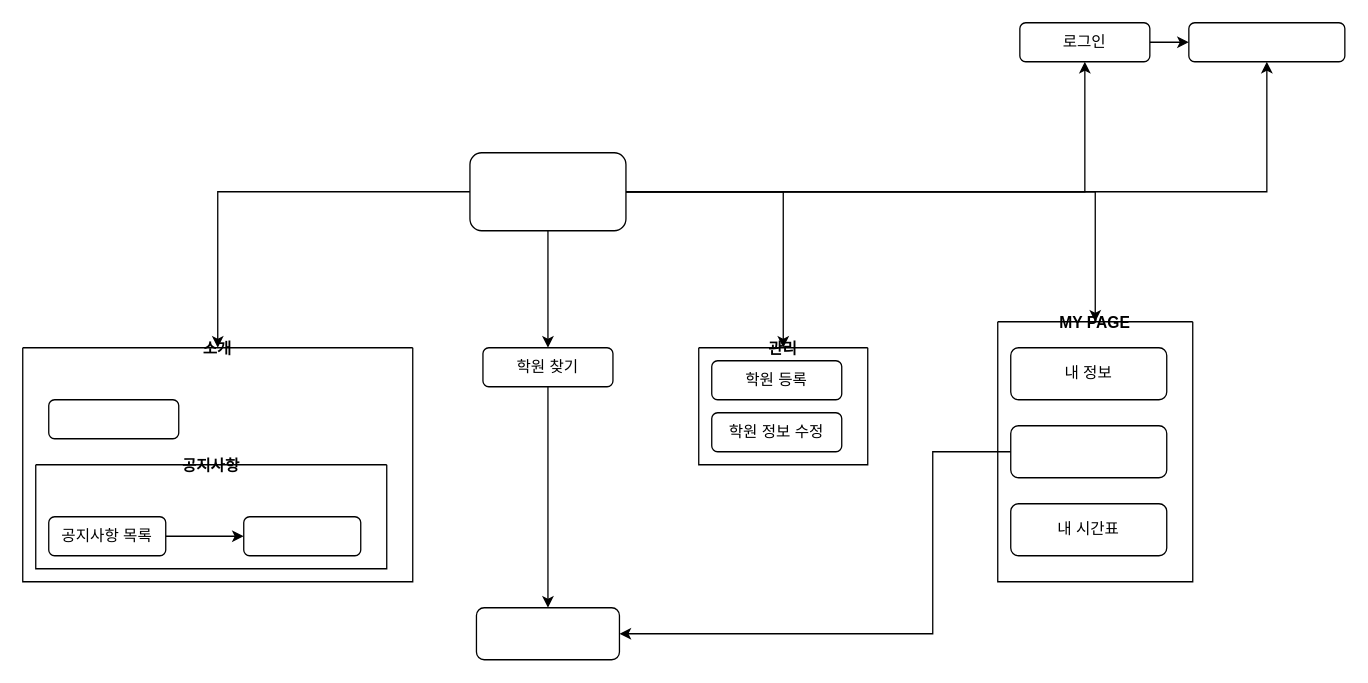
This 1368x683 diagram has some shape labels left out. Each missing label, with the centre of its shape:
결제 또는 최종승인: [547,633]
공지사항 글: [301,535]
메인: [547,191]
서비스 개요: [113,418]
예약 리스트: [1088,451]
회원가입: [1266,41]
